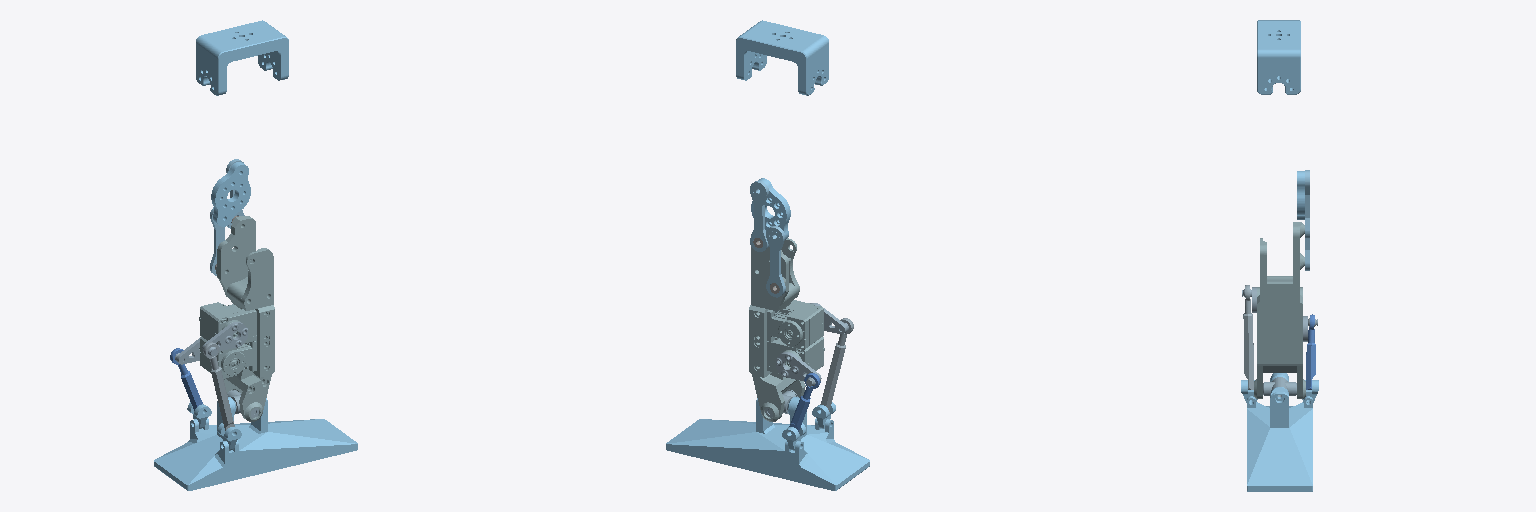
--- Render facts (derived) ---
3 views of the same robot in one strip: view 1: azimuth 30°, elevation 25°; view 2: azimuth 150°, elevation 25°; view 3: azimuth 270°, elevation 25° (orthographic).
Robot: right_leg_XM430 — 17 links, 16 joints (16 revolute); root link hip_yaw_link; default pose: all joints at 0.
Links seen in each view (by area): view 1: right_calf_link, ank_roll_link, hip_yaw_link, xm430_plate, ank_motor_rod_long, ank_motor_arm, ank_motor_rod_short; view 2: ank_roll_link, right_calf_link, hip_yaw_link, xm430_plate, knee_rod_2, knee_rod, ank_motor_rod_long, ank_motor_arm_2, ank_motor_rod_short; view 3: ank_roll_link, right_calf_link, hip_yaw_link, ank_motor_rod_long, ank_motor_rod_short.
Link boxes in pixels (x1,y1,x2,y2): right_calf_link: (199,216,274,421); ank_roll_link: (154,397,357,490); hip_yaw_link: (196,20,288,95); xm430_plate: (211,162,250,226); ank_motor_rod_long: (203,342,234,430); ank_motor_arm: (202,322,247,355); ank_motor_rod_short: (170,348,202,410); ank_roll_link: (666,397,869,490); right_calf_link: (749,234,824,421); hip_yaw_link: (736,20,828,95); xm430_plate: (751,178,790,239); knee_rod_2: (766,226,785,297); knee_rod: (750,180,768,251); ank_motor_rod_long: (821,318,853,411); ank_motor_arm_2: (776,352,821,386); ank_motor_rod_short: (789,373,820,431); ank_roll_link: (1247,373,1312,491); right_calf_link: (1254,222,1305,398); hip_yaw_link: (1257,20,1300,94); ank_motor_rod_long: (1243,285,1253,389); ank_motor_rod_short: (1306,314,1315,389).
Bounding box of the posed robot: 0.12 × 0.0488 × 0.285 m (x, y, z).
15 mesh visuals loaded from 17 distinct referenced files (15 binary STL); not drawn: 2 (reference not matched to a file when rendering).

URDF robot description (right_leg_XM430):
<?xml version="1.0" ?><robot name="right_leg_XM430">  
  <link name="hip_yaw_link">    
    <visual>      
      <origin xyz="0 0 0" rpy="0 -0 0"/>      
      <geometry>        
        <mesh filename="package:///meshes/right_hip_yaw_link_visual.stl"/>        
      </geometry>      
      <material name="hip_yaw_link_material">        
        <color rgba="0.61568627450980395466 0.81176470588235294379 0.92941176470588238168 1.0"/>        
      </material>      
    </visual>    
    <collision>      
      <origin xyz="0 0 0" rpy="0 -0 0"/>      
      <geometry>        
        <mesh filename="package:///meshes/right_hip_yaw_link_collision.stl"/>        
      </geometry>      
    </collision>    
    <inertial>      
      <origin xyz="2.6052892110043261802e-19 4.5779561945300561906e-19 -0.0098390489054829104176" rpy="0 0 0"/>      
      <mass value="0.017999999999999988232"/>      
      <inertia ixx="2.6385033891442523914e-06" ixy="0" ixz="0" iyy="7.6596731957046873405e-06" iyz="0" izz="7.7220708070894735956e-06"/>      
    </inertial>    
  </link>  

  <link name="hip_roll_link">    
    <visual>      
      <origin xyz="0 0 0" rpy="0 -0 0"/>      
      <geometry>        
        <mesh filename="package:///meshes/right_hip_roll_link_visual.stl"/>        
      </geometry>      
      <material name="hip_roll_link_material">        
        <color rgba="0.51698661238356047321 0.50347815951093488618 0.49050589017722012741 1.0"/>        
      </material>      
    </visual>    
    <collision>      
      <origin xyz="0 0 0" rpy="0 -0 0"/>      
      <geometry>        
        <mesh filename="package:///meshes/right_hip_roll_link_collision.stl"/>        
      </geometry>      
    </collision>    
    <inertial>      
      <origin xyz="-0.011999849582182775878 -0.00049598090794319277513 -0.018504111838597465944" rpy="0 0 0"/>      
      <mass value="0.11059999999836234164"/>      
      <inertia ixx="2.2818802599018211805e-05" ixy="-4.6520143286279465858e-08" ixz="-4.6888548259070895301e-08" iyy="3.0871632082338065545e-05" iyz="-5.7477343899720890612e-07" izz="3.0871666424467947309e-05"/>      
    </inertial>    
  </link>  

  <link name="right_hip_pitch_link_xm430">    
    <visual>      
      <origin xyz="0 0 0" rpy="0 -0 0"/>      
      <geometry>        
        <mesh filename="package:///meshes/right_hip_pitch_link_xm430_visual.stl"/>        
      </geometry>      
      <material name="right_hip_pitch_link_xm430_material">        
        <color rgba="0.8707222135732954893 0.72641010956094265172 0.24785169615220692396 1.0"/>        
      </material>      
    </visual>    
    <collision>      
      <origin xyz="0 0 0" rpy="0 -0 0"/>      
      <geometry>        
        <mesh filename="package:///meshes/right_hip_pitch_link_xm430_collision.stl"/>        
      </geometry>      
    </collision>    
    <inertial>      
      <origin xyz="0.00075715881371283015253 -0.050714784778880722671 -0.012656153620121983125" rpy="0 0 0"/>      
      <mass value="0.11480090135030567022"/>      
      <inertia ixx="6.607278648938489003e-05" ixy="4.6010682906021260133e-07" ixz="1.8171597853315155815e-07" iyy="2.3633665181581639092e-05" iyz="1.4125296519934706645e-06" izz="6.2221763055418004632e-05"/>      
    </inertial>    
  </link>  

  <link name="right_calf_link">    
    <visual>      
      <origin xyz="0 0 0" rpy="0 -0 0"/>      
      <geometry>        
        <mesh filename="package:///meshes/right_calf_link_visual.stl"/>        
      </geometry>      
      <material name="right_calf_link_material">        
        <color rgba="0.616547745550632742 0.71757541342472208612 0.74372657889541438081 1.0"/>        
      </material>      
    </visual>    
    <collision>      
      <origin xyz="0 0 0" rpy="0 -0 0"/>      
      <geometry>        
        <mesh filename="package:///meshes/right_calf_link_collision.stl"/>        
      </geometry>      
    </collision>    
    <inertial>      
      <origin xyz="0.0016330560292394454176 0.050045526484800137434 -0.0099079425237753124961" rpy="0 0 0"/>      
      <mass value="0.086799999986183554168"/>      
      <inertia ixx="4.9519076588877077342e-05" ixy="-3.6911123877145733517e-06" ixz="4.1819052274331339443e-07" iyy="1.5531229308366343087e-05" iyz="-4.6072292079354113904e-07" izz="5.314827806205983451e-05"/>      
    </inertial>    
  </link>  

  <link name="bearing_683">    
    <visual>      
      <origin xyz="0 0 0" rpy="0 -0 0"/>      
      <geometry>        
        <mesh filename="package:///meshes/right_bearing_683_visual.stl"/>        
      </geometry>      
      <material name="bearing_683_material">        
        <color rgba="0.64705882352941179736 0.64705882352941179736 0.64705882352941179736 1.0"/>        
      </material>      
    </visual>    
    <collision>      
      <origin xyz="0 0 0" rpy="0 -0 0"/>      
      <geometry>        
        <mesh filename="package:///meshes/right_bearing_683_collision.stl"/>        
      </geometry>      
    </collision>    
    <inertial>      
      <origin xyz="1.0732094295239739393e-19 2.4186774283161266214e-19 -0.0015500000000000016803" rpy="0 0 0"/>      
      <mass value="0.00048694686130641793437"/>      
      <inertia ixx="2.1551456503319895657e-09" ixy="2.3175595566406579266e-27" ixz="2.4896541890902438623e-38" iyy="2.1551456503319883249e-09" iyz="5.4460298433450471486e-38" izz="3.5303647444715305817e-09"/>      
    </inertial>    
  </link>  

  <joint name="right_knee_front_rev_2" type="revolute">    
    <origin xyz="-0.0057402514854763431879 -0.013858192987669382124 -0.026199999999999987188" rpy="4.9452523641215521159e-15 -3.1674356695639584582e-16 3.1359672412492258786"/>    
    <parent link="right_calf_link"/>    
    <child link="bearing_683"/>    
    <axis xyz="0 0 1"/>    
    <limit effort="1" velocity="20" lower="-6.283185307179586232" upper="6.283185307179586232"/>    
    <joint_properties friction="0.0"/>    
  </joint>  

  <link name="bearing_683_2">    
    <visual>      
      <origin xyz="0 0 0" rpy="0 -0 0"/>      
      <geometry>        
        <mesh filename="package:///meshes/right_bearing_683_2_visual.stl"/>        
      </geometry>      
      <material name="bearing_683_2_material">        
        <color rgba="0.64705882352941179736 0.64705882352941179736 0.64705882352941179736 1.0"/>        
      </material>      
    </visual>    
    <collision>      
      <origin xyz="0 0 0" rpy="0 -0 0"/>      
      <geometry>        
        <mesh filename="package:///meshes/right_bearing_683_2_collision.stl"/>        
      </geometry>      
    </collision>    
    <inertial>      
      <origin xyz="1.0732094295240485691e-19 2.418677428316700067e-19 -0.0015499999999999977771" rpy="0 0 0"/>      
      <mass value="0.00048694686130641793437"/>      
      <inertia ixx="2.1551456503319887385e-09" ixy="9.4016331328971133286e-28" ixz="6.4941734545542371767e-38" iyy="2.1551456503319874977e-09" iyz="1.5195108877220808957e-37" izz="3.5303647444715322361e-09"/>      
    </inertial>    
  </link>  

  <joint name="right_knee_back_rev_2" type="revolute">    
    <origin xyz="0.0057402514854763692087 0.013858192987669243346 -0.026199999999999990657" rpy="-2.5000942521723397481e-14 5.2473395102998583317e-16 3.1360672427763174319"/>    
    <parent link="right_calf_link"/>    
    <child link="bearing_683_2"/>    
    <axis xyz="0 0 1"/>    
    <limit effort="1" velocity="20" lower="-6.283185307179586232" upper="6.283185307179586232"/>    
    <joint_properties friction="0.0"/>    
  </joint>  

  <link name="ank_pitch_link">    
    <visual>      
      <origin xyz="0 0 0" rpy="0 -0 0"/>      
      <geometry>        
        <mesh filename="package:///meshes/right_ank_pitch_link_visual.stl"/>        
      </geometry>      
      <material name="ank_pitch_link_material">        
        <color rgba="0.63189161126160264814 0.7266866879354088038 0.78356373393969258601 1.0"/>        
      </material>      
    </visual>    
    <collision>      
      <origin xyz="0 0 0" rpy="0 -0 0"/>      
      <geometry>        
        <mesh filename="package:///meshes/right_ank_pitch_link_collision.stl"/>        
      </geometry>      
    </collision>    
    <inertial>      
      <origin xyz="0.00059528282565814453955 4.0269684199612070023e-08 -7.7616092347959137447e-08" rpy="0 0 0"/>      
      <mass value="0.0042238381753791614387"/>      
      <inertia ixx="3.9782741364678847766e-07" ixy="1.6834347545013802175e-13" ixz="-2.0919187193369323082e-14" iyy="4.3705254067423273522e-07" iyz="-1.6428822295928359723e-12" izz="8.8858574534611122958e-08"/>      
    </inertial>    
  </link>  

  <link name="ank_roll_link">    
    <visual>      
      <origin xyz="0 0 0" rpy="0 -0 0"/>      
      <geometry>        
        <mesh filename="package:///meshes/right_ank_roll_link_visual.stl"/>        
      </geometry>      
      <material name="ank_roll_link_material">        
        <color rgba="0.61568627450980395466 0.81176470588235294379 0.92941176470588227065 1.0"/>        
      </material>      
    </visual>    
    <collision>      
      <origin xyz="0 0 0" rpy="0 -0 0"/>      
      <geometry>        
        <mesh filename="package:///meshes/right_ank_roll_link_collision.stl"/>        
      </geometry>      
    </collision>    
    <inertial>      
      <origin xyz="-3.2206255610852239928e-10 0.030487683096149048589 0.0047792578419041014184" rpy="0 0 0"/>      
      <mass value="0.027200000000000008893"/>      
      <inertia ixx="2.2943463470325713448e-05" ixy="-2.016722948171777719e-13" ixz="4.0806229578615081037e-12" iyy="2.5276617323505065215e-05" iyz="-7.4169474455435566413e-07" izz="5.0976619075837788231e-06"/>      
    </inertial>    
  </link>  

  <link name="ank_rr_link">    
    <visual>      
      <origin xyz="0 0 0" rpy="0 -0 0"/>      
      <geometry>        
        <mesh filename="package:///meshes/right_ank_rr_link_visual.stl"/>        
      </geometry>      
      <material name="ank_rr_link_material">        
        <color rgba="0.61568627450980395466 0.81176470588235294379 0.92941176470588238168 1.0"/>        
      </material>      
    </visual>    
    <collision>      
      <origin xyz="0 0 0" rpy="0 -0 0"/>      
      <geometry>        
        <mesh filename="package:///meshes/right_ank_rr_link_collision.stl"/>        
      </geometry>      
    </collision>    
    <inertial>      
      <origin xyz="-4.5249610960602645664e-05 -0.0063096429836314027462 2.0009406464677816885e-19" rpy="0 0 0"/>      
      <mass value="0.0014499999999999999001"/>      
      <inertia ixx="2.9739579267716163268e-08" ixy="-2.4213146797977880987e-10" ixz="-3.5523394884432796266e-14" iyy="2.7430027724071957055e-08" iyz="4.4497301223652303834e-32" izz="4.2921949116163672436e-08"/>      
    </inertial>    
  </link>  

  <link name="ank_motor_rod_long">    
    <visual>      
      <origin xyz="0 0 0" rpy="0 -0 0"/>      
      <geometry>        
        <mesh filename="package:///meshes/right_ank_motor_rod_long_visual.stl"/>        
      </geometry>      
      <material name="ank_motor_rod_long_material">        
        <color rgba="0.63549975559783222767 0.7077439301702044272 0.75109043491362770251 1.0"/>        
      </material>      
    </visual>    
    <collision>      
      <origin xyz="0 0 0" rpy="0 -0 0"/>      
      <geometry>        
        <mesh filename="package:///meshes/right_ank_motor_rod_long_collision.stl"/>        
      </geometry>      
    </collision>    
    <inertial>      
      <origin xyz="2.4855090373658416808e-10 0.034559019974062320235 0.00093851704878454773103" rpy="0 0 0"/>      
      <mass value="0.0021712857268636710437"/>      
      <inertia ixx="8.5350290058000421993e-07" ixy="1.4884244055558907074e-14" ixz="4.5749525025468555809e-11" iyy="1.3237321792739598881e-08" iyz="-4.3668910960859711191e-09" izz="8.5812217519451768749e-07"/>      
    </inertial>    
  </link>  

  <joint name="right_ank_long_rev_2" type="revolute">    
    <origin xyz="-3.4694469519536141888e-18 -0.0099999999999999533706 -6.9388939039072283776e-18" rpy="-1.570796326794896558 -1.3320366994106251912 -1.5707963267948779063"/>    
    <parent link="ank_rr_link"/>    
    <child link="ank_motor_rod_long"/>    
    <axis xyz="0 0 1"/>    
    <limit effort="1" velocity="20" lower="-1.570796326794896558" upper="1.570796326794896558"/>    
    <joint_properties friction="0.0"/>    
  </joint>  

  <joint name="right_ank_long_rev_1" type="revolute">    
    <origin xyz="0.01799999999999999864 0.015999999999999764411 -0.020600000000000132094" rpy="-7.8386807614170502355e-15 7.211088289180617976e-16 0.018223085043007757056"/>    
    <parent link="ank_roll_link"/>    
    <child link="ank_rr_link"/>    
    <axis xyz="0 0 1"/>    
    <limit effort="1" velocity="20" lower="-1.570796326794896558" upper="1.570796326794896558"/>    
    <joint_properties friction="0.0"/>    
  </joint>  

  <link name="ank_rr_link_2">    
    <visual>      
      <origin xyz="0 0 0" rpy="0 -0 0"/>      
      <geometry>        
        <mesh filename="package:///meshes/right_ank_rr_link_2_visual.stl"/>        
      </geometry>      
      <material name="ank_rr_link_2_material">        
        <color rgba="0.61568627450980395466 0.81176470588235294379 0.92941176470588238168 1.0"/>        
      </material>      
    </visual>    
    <collision>      
      <origin xyz="0 0 0" rpy="0 -0 0"/>      
      <geometry>        
        <mesh filename="package:///meshes/right_ank_rr_link_2_collision.stl"/>        
      </geometry>      
    </collision>    
    <inertial>      
      <origin xyz="-4.5249610960599182994e-05 0.0063096429836314591247 -2.0009406464667284455e-19" rpy="0 0 0"/>      
      <mass value="0.0014499999999999999001"/>      
      <inertia ixx="2.9739579267716163268e-08" ixy="2.4213146797977886157e-10" ixz="3.5523394884432796266e-14" iyy="2.7430027724071963673e-08" iyz="7.1669291072376189503e-32" izz="4.2921949116163672436e-08"/>      
    </inertial>    
  </link>  

  <link name="ank_motor_rod_short">    
    <visual>      
      <origin xyz="0 0 0" rpy="0 -0 0"/>      
      <geometry>        
        <mesh filename="package:///meshes/right_ank_motor_rod_short_visual.stl"/>        
      </geometry>      
      <material name="ank_motor_rod_short_material">        
        <color rgba="0.41222606689734719865 0.58339100346020766885 0.8110726643598615837 1.0"/>        
      </material>      
    </visual>    
    <collision>      
      <origin xyz="0 0 0" rpy="0 -0 0"/>      
      <geometry>        
        <mesh filename="package:///meshes/right_ank_motor_rod_short_collision.stl"/>        
      </geometry>      
    </collision>    
    <inertial>      
      <origin xyz="2.6038943231632549872e-10 0.023830465465870847436 0.00090403506359630625422" rpy="0 0 0"/>      
      <mass value="0.0017000000000000001221"/>      
      <inertia ixx="3.3153416252669976544e-07" ixy="8.7419768119858657143e-15" ixz="4.5749941567677183029e-11" iyy="1.0947363610305713008e-08" iyz="-3.5863098646420718289e-09" izz="3.3621340447865204927e-07"/>      
    </inertial>    
  </link>  

  <joint name="right_ank_short_rev_2" type="revolute">    
    <origin xyz="0 0.010000000000000008882 0" rpy="-1.570796326794896558 1.2119133862909121646 -1.5707963267948537034"/>    
    <parent link="ank_rr_link_2"/>    
    <child link="ank_motor_rod_short"/>    
    <axis xyz="0 0 1"/>    
    <limit effort="1" velocity="20" lower="-1.570796326794896558" upper="1.570796326794896558"/>    
    <joint_properties friction="0.0"/>    
  </joint>  

  <joint name="right_ank_short_rev_1" type="revolute">    
    <origin xyz="-0.018000000000000009048 0.015999999999999764411 -0.020600000000000118217" rpy="2.411086010918130345e-14 -1.3088994399411267302e-14 3.1154741050824821258"/>    
    <parent link="ank_roll_link"/>    
    <child link="ank_rr_link_2"/>    
    <axis xyz="0 0 1"/>    
    <limit effort="1" velocity="20" lower="-1.570796326794896558" upper="1.570796326794896558"/>    
    <joint_properties friction="0.0"/>    
  </joint>  

  <joint name="right_ank_roll" type="revolute">    
    <origin xyz="0.001499999999999998947 8.3266726846886740532e-17 1.3660947373317355868e-17" rpy="6.1391486757704172424e-30 1.5707963267948927832 0"/>    
    <parent link="ank_pitch_link"/>    
    <child link="ank_roll_link"/>    
    <axis xyz="0 0 1"/>    
    <limit effort="1" velocity="20" lower="-0.785398163397448279" upper="0.785398163397448279"/>    
    <joint_properties friction="0.0"/>    
  </joint>  

  <joint name="right_ank_pitch" type="revolute">    
    <origin xyz="3.4616201395293281188e-16 0.10000000000000006106 -0.010399999999999975236" rpy="-3.1415926535897922278 1.9667427410937738729e-16 -3.1415926535897926719"/>    
    <parent link="right_calf_link"/>    
    <child link="ank_pitch_link"/>    
    <axis xyz="0 0 1"/>    
    <limit effort="1" velocity="20" lower="-1.0471975511965976313" upper="0.785398163397448279"/>    
    <joint_properties friction="0.0"/>    
  </joint>  

  <link name="ank_motor_arm">    
    <visual>      
      <origin xyz="0 0 0" rpy="0 -0 0"/>      
      <geometry>        
        <mesh filename="package:///meshes/right_ank_motor_arm_visual.stl"/>        
      </geometry>      
      <material name="ank_motor_arm_material">        
        <color rgba="0.62483822591633164656 0.70971956673896574586 0.76585356440212004614 1.0"/>        
      </material>      
    </visual>    
    <collision>      
      <origin xyz="0 0 0" rpy="0 -0 0"/>      
      <geometry>        
        <mesh filename="package:///meshes/right_ank_motor_arm_collision.stl"/>        
      </geometry>      
    </collision>    
    <inertial>      
      <origin xyz="0.014032842952293483885 -1.1875681526054779929e-09 0.0040383546575275923451" rpy="0 0 0"/>      
      <mass value="0.0021359401157891211472"/>      
      <inertia ixx="2.920977652832815804e-08" ixy="-4.6752001422563860023e-14" ixz="-3.1659407525131065532e-08" iyy="1.7718014185775859225e-07" iyz="-2.5844346951013690337e-15" izz="1.8139327643022011445e-07"/>      
    </inertial>    
  </link>  

  <joint name="right_ank_act_1" type="revolute">    
    <origin xyz="0.013499999999996006514 0.04450000000000683964 0.0040000000000046075088" rpy="-3.1559662337880072911e-13 -4.3224762083389784551e-14 0.21173394130152450865"/>    
    <parent link="right_calf_link"/>    
    <child link="ank_motor_arm"/>    
    <axis xyz="0 0 1"/>    
    <limit effort="1" velocity="20" lower="-1.3089969389957472057" upper="1.3089969389957472057"/>    
    <joint_properties friction="0.0"/>    
  </joint>  

  <link name="ank_motor_arm_2">    
    <visual>      
      <origin xyz="0 0 0" rpy="0 -0 0"/>      
      <geometry>        
        <mesh filename="package:///meshes/right_ank_motor_arm_2_visual.stl"/>        
      </geometry>      
      <material name="ank_motor_arm_2_material">        
        <color rgba="0.62483822591633164656 0.70971956673896574586 0.76585356440212004614 1.0"/>        
      </material>      
    </visual>    
    <collision>      
      <origin xyz="0 0 0" rpy="0 -0 0"/>      
      <geometry>        
        <mesh filename="package:///meshes/right_ank_motor_arm_2_collision.stl"/>        
      </geometry>      
    </collision>    
    <inertial>      
      <origin xyz="0.014032842952293506436 -1.187568081600947684e-09 0.0040383546575275958146" rpy="0 0 0"/>      
      <mass value="0.0021359401157891211472"/>      
      <inertia ixx="2.9209776528328204362e-08" ixy="-4.6752001607133292608e-14" ixz="-3.1659407525131217734e-08" iyy="1.7718014185775922752e-07" iyz="-2.5844347378765580252e-15" izz="1.8139327643022061737e-07"/>      
    </inertial>    
  </link>  

  <joint name="right_ank_act_2" type="revolute">    
    <origin xyz="0.013500000000003113676 0.064500000000006912915 -0.024800000000002909994" rpy="-3.1415926535895573046 -1.7198897169567297797e-13 0.22995607267273157626"/>    
    <parent link="right_calf_link"/>    
    <child link="ank_motor_arm_2"/>    
    <axis xyz="0 0 1"/>    
    <limit effort="1" velocity="20" lower="-1.3089969389957472057" upper="1.3089969389957472057"/>    
    <joint_properties friction="0.0"/>    
  </joint>  

  <joint name="right_knee_pitch" type="revolute">    
    <origin xyz="-2.9733995392255427503e-17 -0.096000000000000001998 -0.0091999999999999963751" rpy="-2.1337098754749728925e-16 3.9898639968108458448e-17 3.1415926535897846783"/>    
    <parent link="right_hip_pitch_link_xm430"/>    
    <child link="right_calf_link"/>    
    <axis xyz="0 0 1"/>    
    <limit effort="1" velocity="20" lower="-1.9198621771937625091" upper="0"/>    
    <joint_properties friction="0.0"/>    
  </joint>  

  <link name="xm430_plate">    
    <visual>      
      <origin xyz="0 0 0" rpy="0 -0 0"/>      
      <geometry>        
        <mesh filename="package:///meshes/right_xm430_plate_visual.stl"/>        
      </geometry>      
      <material name="xm430_plate_material">        
        <color rgba="0.61568627450980395466 0.81176470588235294379 0.9294117647058824927 1.0"/>        
      </material>      
    </visual>    
    <collision>      
      <origin xyz="0 0 0" rpy="0 -0 0"/>      
      <geometry>        
        <mesh filename="package:///meshes/right_xm430_plate_collision.stl"/>        
      </geometry>      
    </collision>    
    <inertial>      
      <origin xyz="8.2761015112156068591e-19 3.9608123405210419363e-18 -0.0024039046431217972466" rpy="0 0 0"/>      
      <mass value="0.0026999999999999992756"/>      
      <inertia ixx="2.6720434385876688324e-07" ixy="-6.8936588702566374239e-08" ixz="2.5793754136946577579e-36" iyy="1.2933116645363405536e-07" iyz="-5.5772549530744028788e-36" izz="3.8533537562751439267e-07"/>      
    </inertial>    
  </link>  

  <link name="knee_rod">    
    <visual>      
      <origin xyz="0 0 0" rpy="0 -0 0"/>      
      <geometry>        
        <mesh filename="package:///meshes/right_knee_rod_visual.stl"/>        
      </geometry>      
      <material name="knee_rod_material">        
        <color rgba="0.62051618944235198416 0.78640765248647581664 0.88594253031295022716 1.0"/>        
      </material>      
    </visual>    
    <collision>      
      <origin xyz="0 0 0" rpy="0 -0 0"/>      
      <geometry>        
        <mesh filename="package:///meshes/right_knee_rod_collision.stl"/>        
      </geometry>      
    </collision>    
    <inertial>      
      <origin xyz="0.014594553522267959475 3.7292099839724583211e-05 -0.0015996227373186720257" rpy="0 0 0"/>      
      <mass value="0.0031629468613064179276"/>      
      <inertia ixx="2.5895923315130376932e-08" ixy="-3.1325283435871752107e-10" ixz="4.1682992324833837119e-10" iyy="6.015326150335526925e-07" iyz="1.0650865822052022654e-12" izz="6.2266847407077561114e-07"/>      
    </inertial>    
  </link>  

  <joint name="right_knee_front_rev_1" type="revolute">    
    <origin xyz="-0.005740251485476348392 -0.013858192987669298857 -0.0050000000000000027062" rpy="1.2660330546546102165e-14 -5.760640040579399853e-15 1.5651709144543408669"/>    
    <parent link="xm430_plate"/>    
    <child link="knee_rod"/>    
    <axis xyz="0 0 1"/>    
    <limit effort="1" velocity="20" lower="-6.283185307179586232" upper="6.283185307179586232"/>    
    <joint_properties friction="0.0"/>    
  </joint>  

  <link name="knee_rod_2">    
    <visual>      
      <origin xyz="0 0 0" rpy="0 -0 0"/>      
      <geometry>        
        <mesh filename="package:///meshes/right_knee_rod_2_visual.stl"/>        
      </geometry>      
      <material name="knee_rod_2_material">        
        <color rgba="0.62051618944235198416 0.78640765248647581664 0.88594253031295022716 1.0"/>        
      </material>      
    </visual>    
    <collision>      
      <origin xyz="0 0 0" rpy="0 -0 0"/>      
      <geometry>        
        <mesh filename="package:///meshes/right_knee_rod_2_collision.stl"/>        
      </geometry>      
    </collision>    
    <inertial>      
      <origin xyz="0.014594557105585477183 3.4373169586153155656e-05 -0.0015996227373184820734" rpy="0 0 0"/>      
      <mass value="0.0031629468613064179276"/>      
      <inertia ixx="2.5895802916981975736e-08" ixy="-2.8873395407690157505e-10" ixz="4.1683002558550294754e-10" iyy="6.0153267523314955379e-07" iyz="9.8172003926880134242e-13" izz="6.2266841387223807044e-07"/>      
    </inertial>    
  </link>  

  <joint name="right_knee_back_rev_1" type="revolute">    
    <origin xyz="0.0057402514854763509941 0.013858192987669298857 -0.0050000000000000061756" rpy="1.7600934488845652939e-14 7.4447456537463636708e-16 1.5652709159814237605"/>    
    <parent link="xm430_plate"/>    
    <child link="knee_rod_2"/>    
    <axis xyz="0 0 1"/>    
    <limit effort="1" velocity="20" lower="-6.283185307179586232" upper="6.283185307179586232"/>    
    <joint_properties friction="0.0"/>    
  </joint>  

  <joint name="right_knee_act" type="revolute">    
    <origin xyz="0.0001500000000000903009 -0.061499999999999978295 -0.030400000000000013817" rpy="-2.110221371875480467e-15 -1.2104358314278240034e-14 3.1415926535897811256"/>    
    <parent link="right_hip_pitch_link_xm430"/>    
    <child link="xm430_plate"/>    
    <axis xyz="0 0 1"/>    
    <limit effort="1" velocity="20" lower="-1.9198621771937625091" upper="0"/>    
    <joint_properties friction="0.0"/>    
  </joint>  

  <joint name="right_hip_pitch" type="revolute">    
    <origin xyz="-0.024000000716142756707 -0.019000000152441819112 -0.019000000152452952568" rpy="1.5707963267951126074 1.5707963267947429031 0"/>    
    <parent link="hip_roll_link"/>    
    <child link="right_hip_pitch_link_xm430"/>    
    <axis xyz="0 0 1"/>    
    <limit effort="1" velocity="20" lower="-1.570796326794896558" upper="1.570796326794896558"/>    
    <joint_properties friction="0.0"/>    
  </joint>  

  <joint name="right_hip_roll" type="revolute">    
    <origin xyz="-0.018999999999999999528 3.350043889036771243e-18 -0.026000000000000002276" rpy="-6.1629758220389864097e-33 -1.5707963267948785724 0"/>    
    <parent link="hip_yaw_link"/>    
    <child link="hip_roll_link"/>    
    <axis xyz="0 0 1"/>    
    <limit effort="1" velocity="20" lower="-0.785398163397448279" upper="0.785398163397448279"/>    
    <joint_properties friction="0.0"/>    
  </joint>  


</robot>
